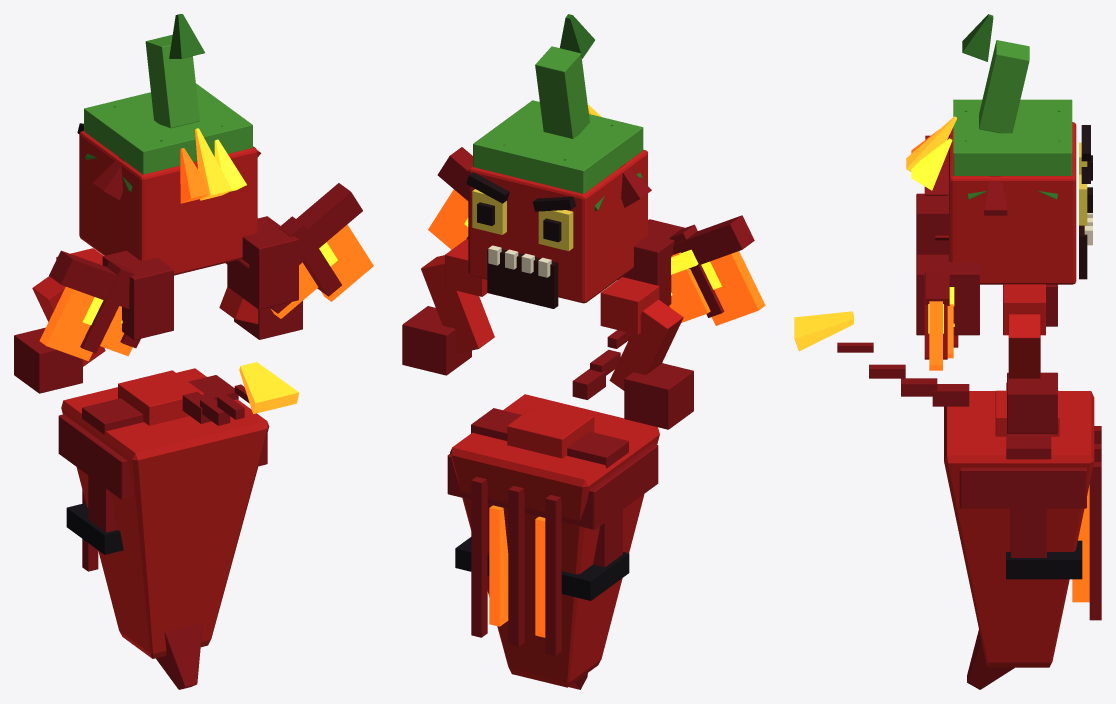
Rendered from chili-imp.glb.
The picture shows the model from 3 angles, left to right: view 1: azimuth 30°, elevation 25°; view 2: azimuth 150°, elevation 25°; view 3: azimuth 270°, elevation 25°; orthographic projection.
Parts seen in each view (by area): view 1: body, head, wing.L, wing.R, arm.R, leg.FR, tail, arm.L, leg.FL; view 2: body, head, wing.R, arm.R, arm.L, leg.FR, wing.L, tail, leg.FL; view 3: body, head, arm.L, wing.L, leg.FL, tail, wing.R, arm.R.
Boxes of the visible parts, bbox=[...] form: body: bbox=[58, 368, 269, 689]; head: bbox=[77, 14, 261, 275]; wing.L: bbox=[227, 183, 373, 318]; wing.R: bbox=[39, 250, 173, 361]; arm.R: bbox=[14, 248, 105, 393]; leg.FR: bbox=[66, 398, 143, 554]; tail: bbox=[182, 362, 299, 425]; arm.L: bbox=[219, 218, 302, 339]; leg.FL: bbox=[188, 375, 238, 400]; body: bbox=[447, 394, 659, 689]; head: bbox=[466, 14, 651, 308]; wing.R: bbox=[618, 215, 765, 325]; arm.R: bbox=[600, 277, 693, 429]; arm.L: bbox=[402, 239, 494, 375]; leg.FR: bbox=[561, 431, 629, 600]; wing.L: bbox=[428, 147, 472, 249]; tail: bbox=[572, 330, 631, 399]; leg.FL: bbox=[455, 408, 521, 575]; body: bbox=[944, 390, 1101, 689]; head: bbox=[906, 14, 1092, 284]; arm.L: bbox=[1003, 284, 1057, 433]; wing.L: bbox=[916, 254, 979, 370]; leg.FL: bbox=[1006, 429, 1082, 579]; tail: bbox=[794, 311, 969, 406]; wing.R: bbox=[916, 135, 948, 254]; arm.R: bbox=[1046, 284, 1057, 326].
Size of the model in its own units: 0.511 by 1 by 0.4142.
